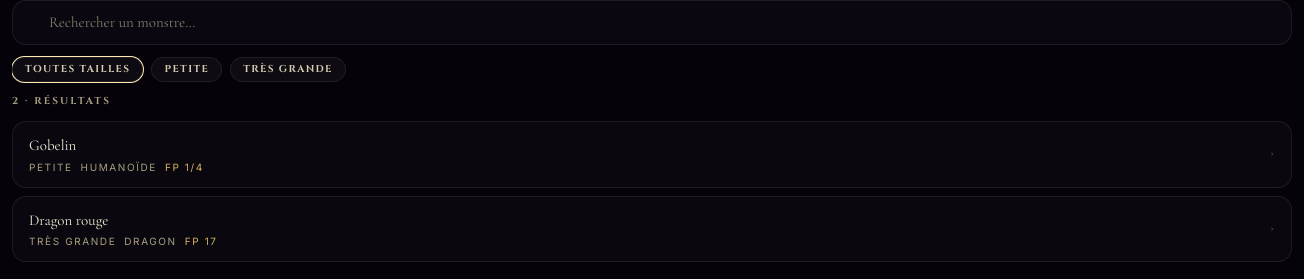
Test case: MonsterBrowser (Codex) › liste les monstres triés par FP croissant + filtre par taille
Expected: the text "Gobelin" is shown, [29,136,76,154]
Expected: the text "Dragon rouge" is shown, [29,210,108,228]
// Filtre « Très grande » (huge) → seul le dragon reste.
Step 1. Click the button "Très grande" → (288, 70), box [230,57,346,82]
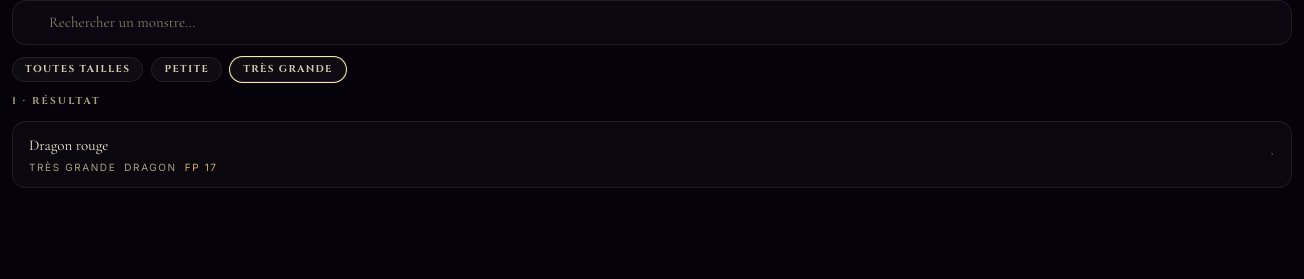
Expected: the text "Dragon rouge" is shown, [29,136,108,154]
Now the button "Gobelin" is gone
